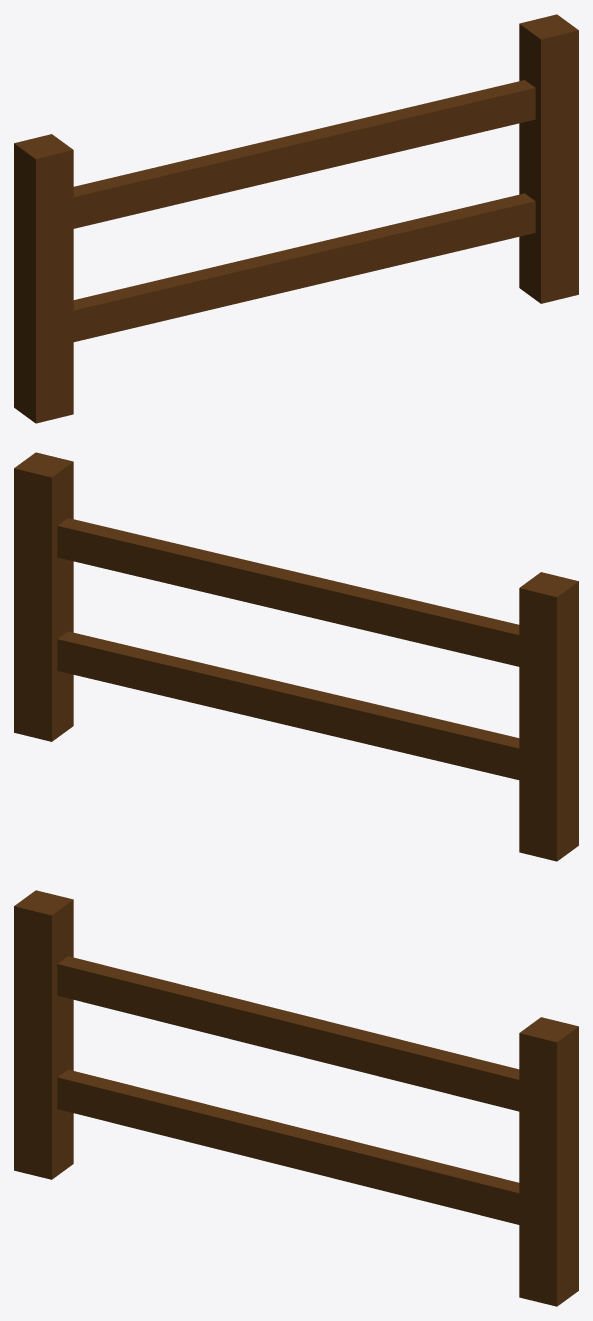
File: Fence.FBX
3 renders of one model, top to bottom at view 1: azimuth 30°, elevation 25°; view 2: azimuth 150°, elevation 25°; view 3: azimuth 330°, elevation 25°, orthographic.
Visible parts, largest first — view 1: Box003; view 2: Box003; view 3: Box003.
Part boxes in pixels (x1,y1,x2,y2): Box003: [14, 14, 578, 423]; Box003: [14, 452, 578, 861]; Box003: [14, 890, 578, 1306].
Size of the model in its own units: 2.15 by 1.01 by 0.15.
